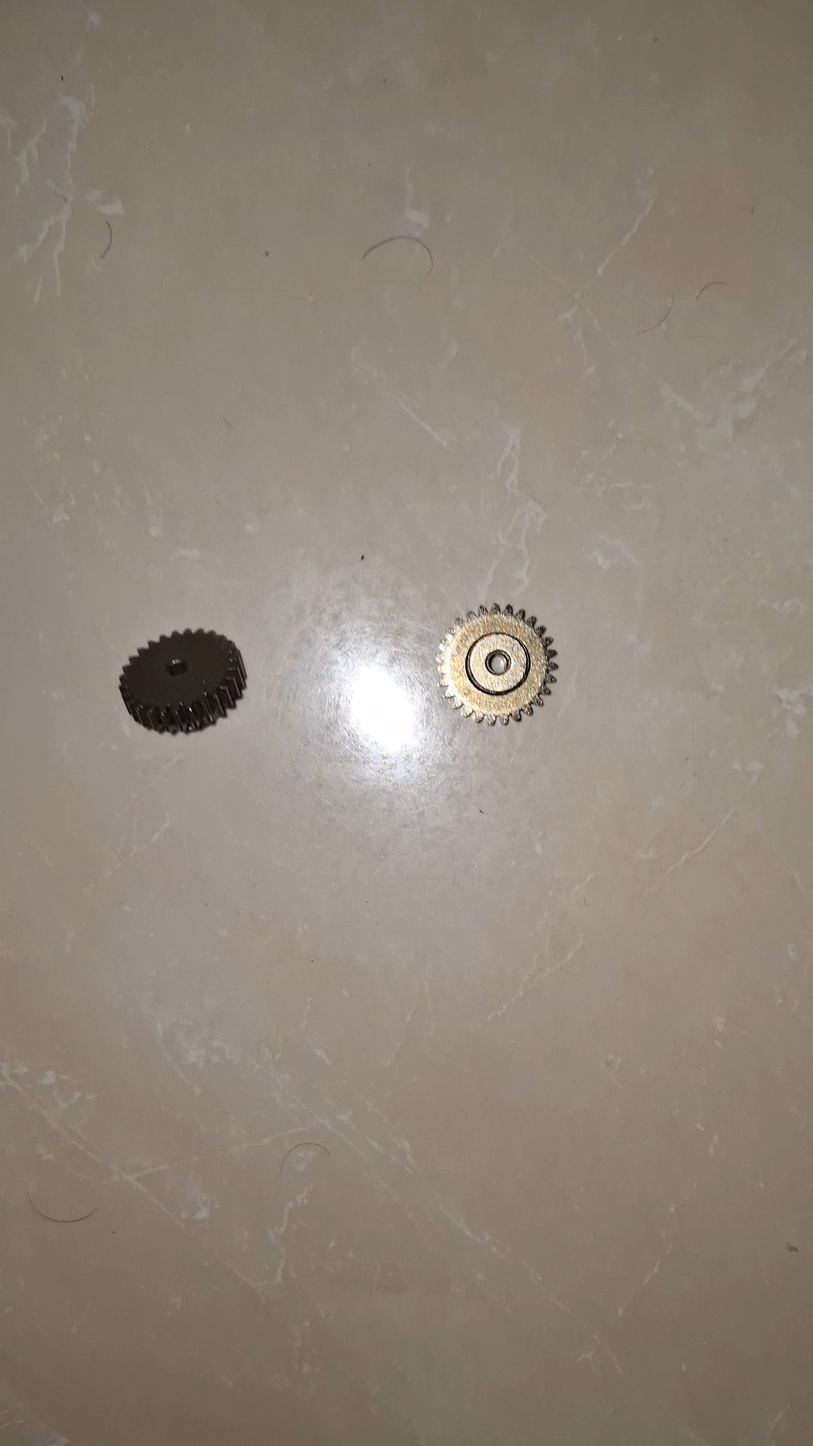spur gear: (438, 604, 557, 724), (120, 630, 246, 732)
